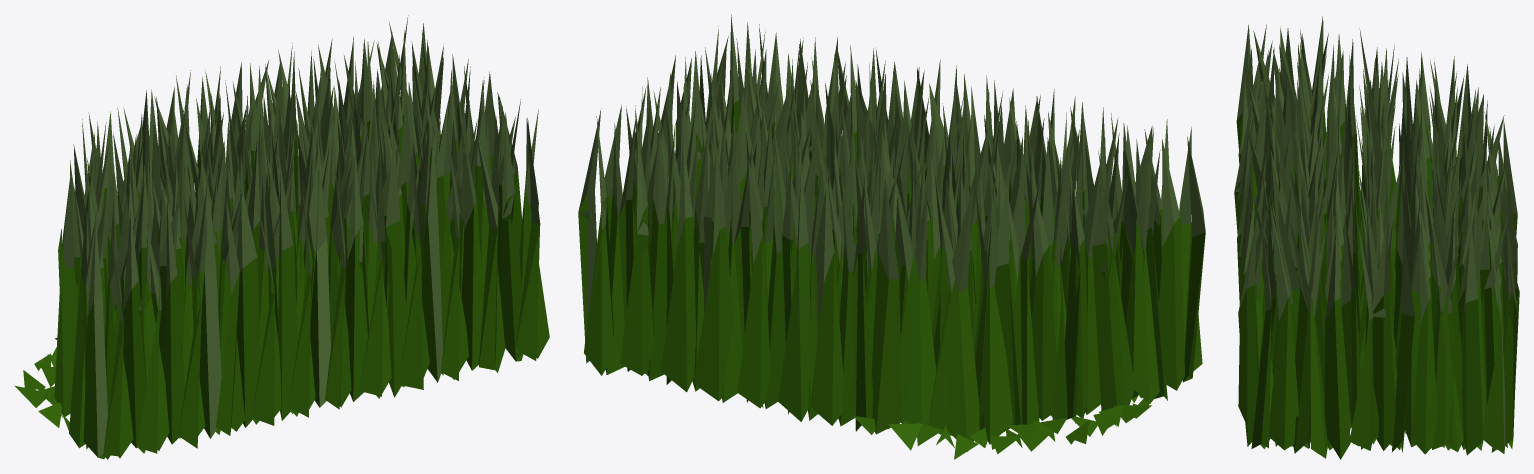
File: GrassCurve2.fbx
3 renders of one model, left to right at view 1: azimuth 30°, elevation 25°; view 2: azimuth 150°, elevation 25°; view 3: azimuth 270°, elevation 25°, orthographic. The views are drawn at different scales.
Parts seen in each view (by area): view 1: Cube; view 2: Cube; view 3: Cube.
Part boxes in pixels (box(x1,y1,x2,y2)): Cube: box(14, 15, 549, 459); Cube: box(578, 14, 1205, 459); Cube: box(1234, 16, 1519, 459).
Bounding box in the file's own units: 2554 × 1364 × 1412.
